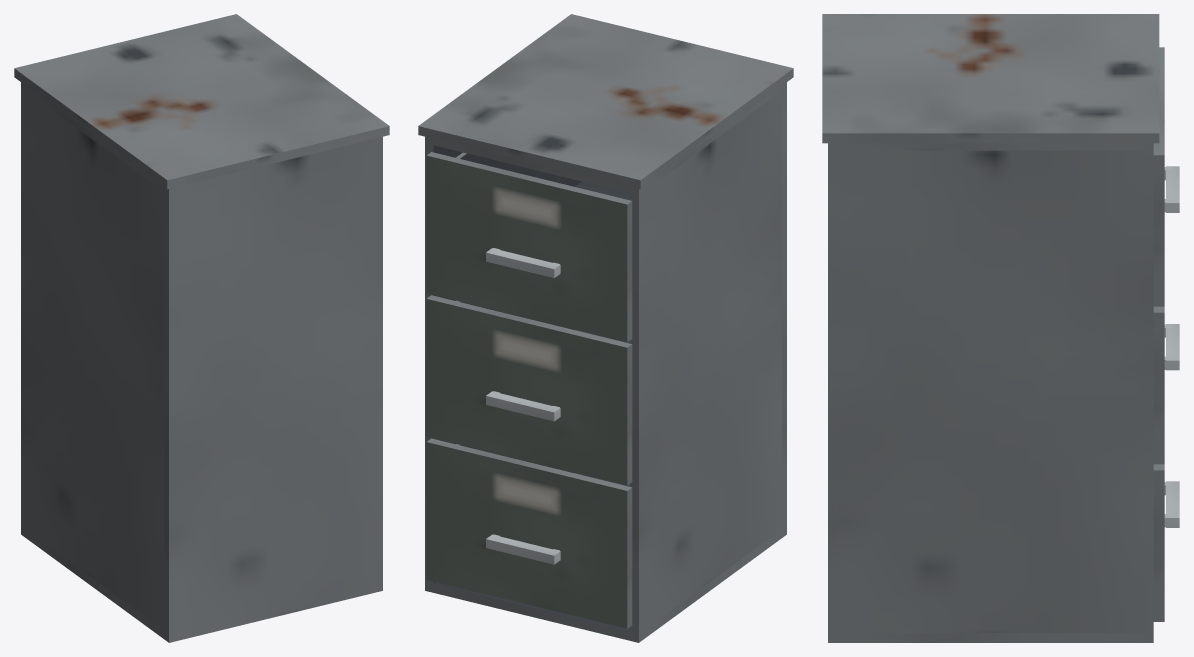
Rendered from cabinet_drawers.fbx.
3 views of the same model, side by side, from view 1: azimuth 30°, elevation 25°; view 2: azimuth 150°, elevation 25°; view 3: azimuth 270°, elevation 25° (orthographic). The views are drawn at different scales.
Parts seen in each view (by area): view 1: cabinet_drawers; view 2: cabinet_drawers; view 3: cabinet_drawers.
Part boxes in pixels (x1,y1,x2,y2): cabinet_drawers: (14, 14, 389, 642); cabinet_drawers: (418, 14, 793, 642); cabinet_drawers: (822, 14, 1179, 642).
Bounding box in the file's own units: 0.52 × 1.04 × 0.6575.
1 material, 1 textured.
